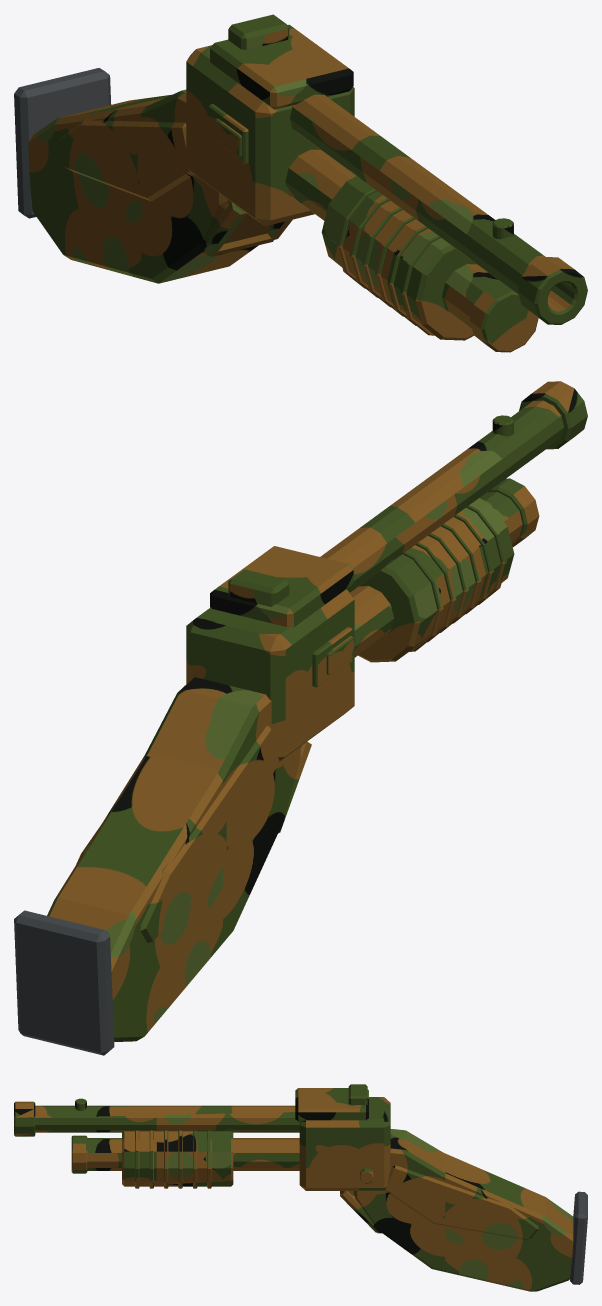
The model's file is Remington870_RuralCamo.glb.
The picture shows the model from 3 angles, top to bottom: view 1: azimuth 30°, elevation 25°; view 2: azimuth 150°, elevation 25°; view 3: azimuth 270°, elevation 25°; orthographic projection. The views are drawn at different scales.
Visible parts, largest first — view 1: FTF_Weapon_Remington870_RuralCamo_Mesh; view 2: FTF_Weapon_Remington870_RuralCamo_Mesh; view 3: FTF_Weapon_Remington870_RuralCamo_Mesh.
Part boxes in pixels (x1,y1,x2,y2): FTF_Weapon_Remington870_RuralCamo_Mesh: [14, 14, 587, 352]; FTF_Weapon_Remington870_RuralCamo_Mesh: [14, 381, 587, 1055]; FTF_Weapon_Remington870_RuralCamo_Mesh: [14, 1084, 587, 1291].
Size of the model in its own units: 0.271 by 0.7341 by 1.99.
2 materials, 1 textured.
